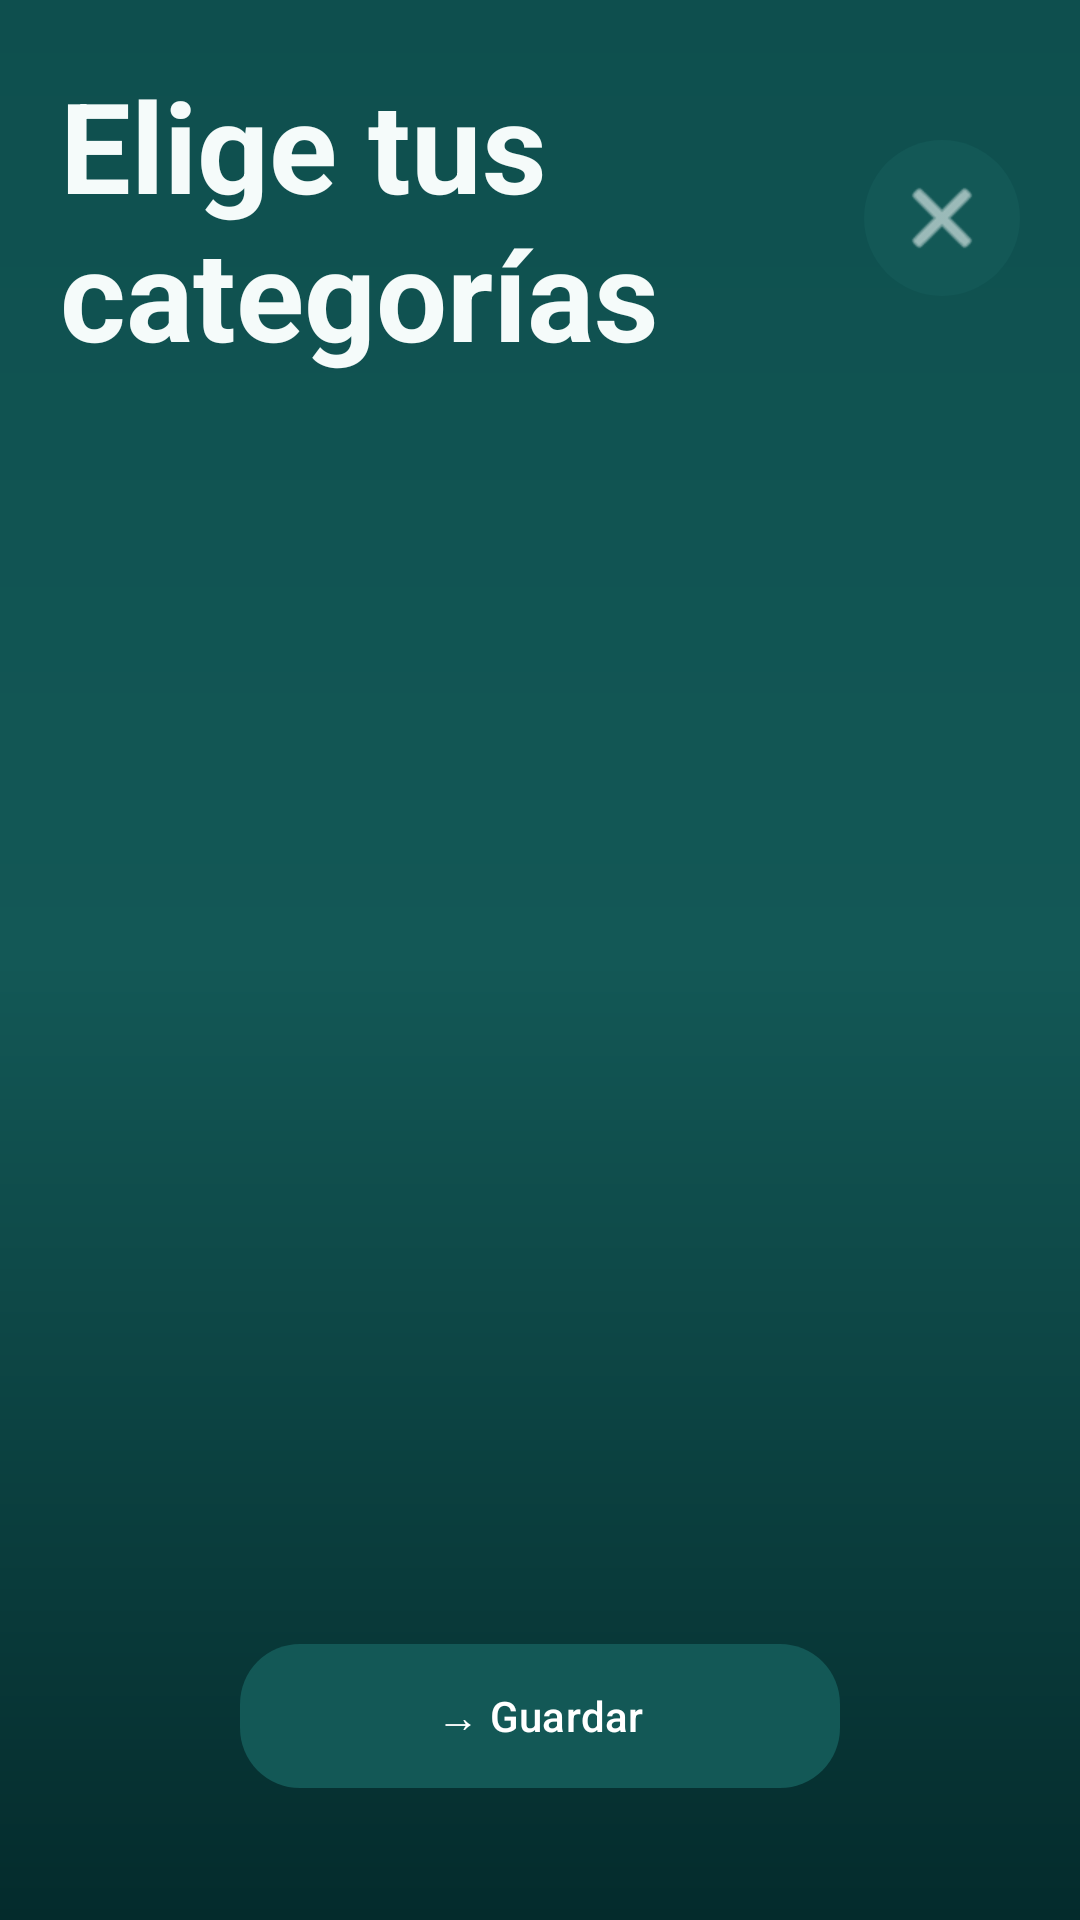

Where to tap for icons on this 1080px×1920px app screen, as (x=x, y=y):
close clear cancel: (x=942, y=218)
